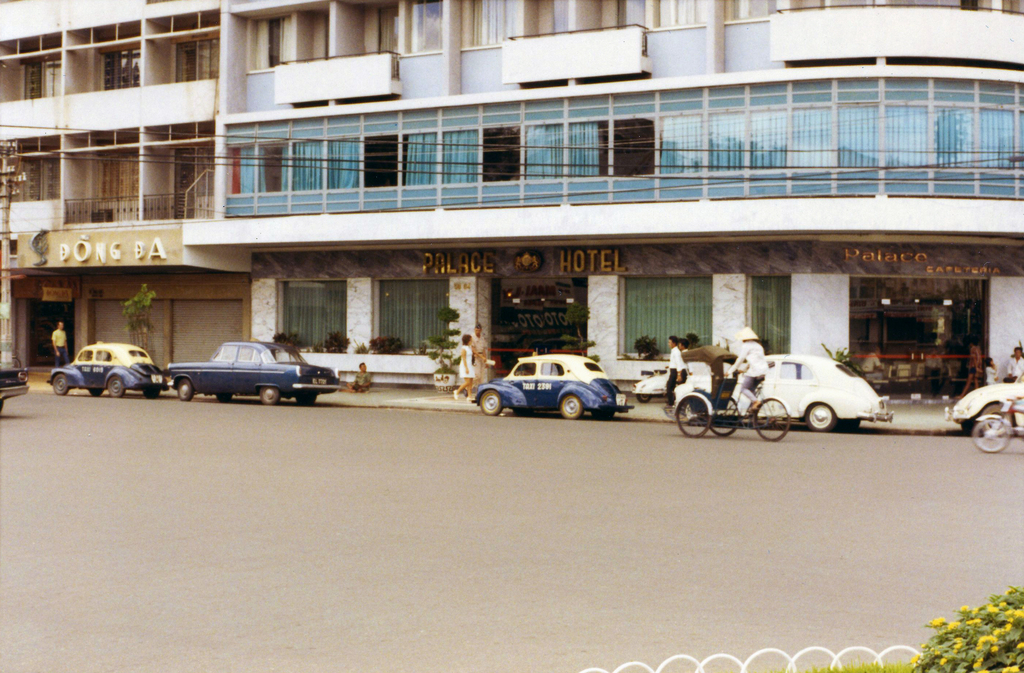mobil: (472, 355, 626, 425), (176, 339, 332, 406), (54, 336, 176, 407)
